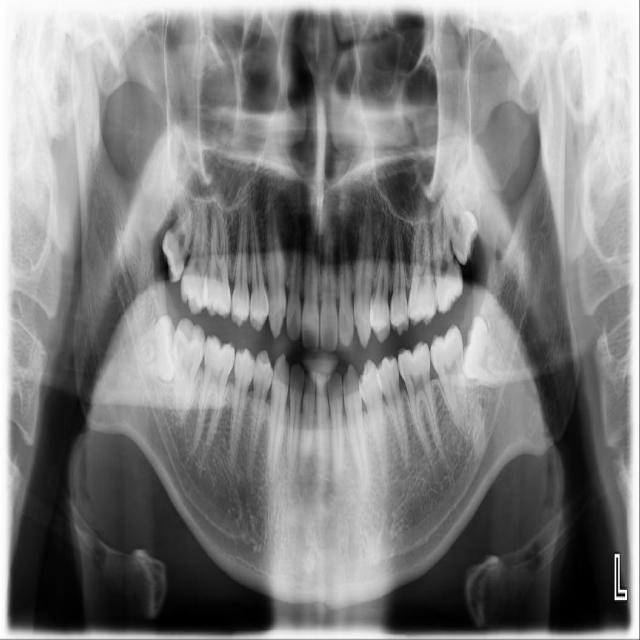impacted tooth: (462, 317, 509, 385), (129, 316, 175, 382), (442, 184, 477, 261), (163, 201, 194, 282)
